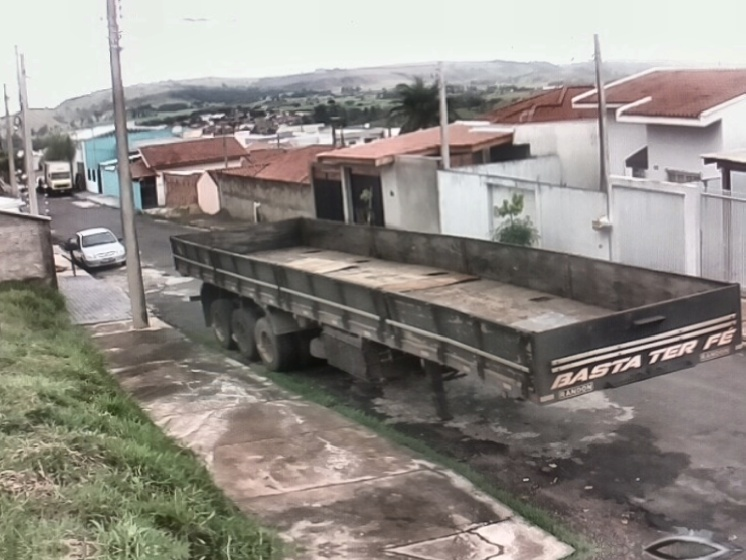person: (723, 237, 746, 319)
